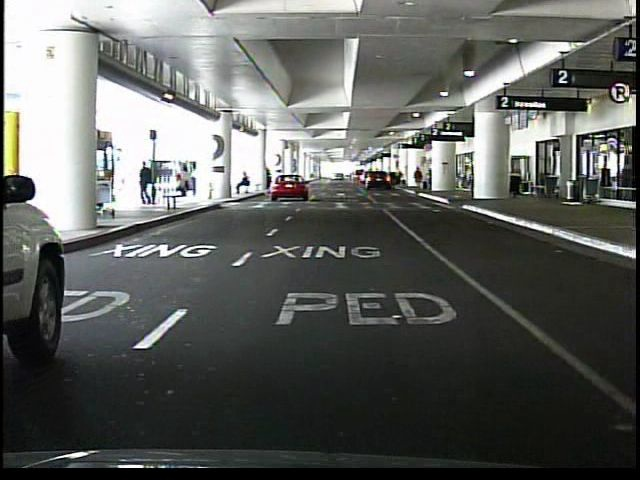person: (140, 160, 155, 207), (466, 162, 477, 200), (234, 172, 252, 195), (414, 166, 424, 193)
